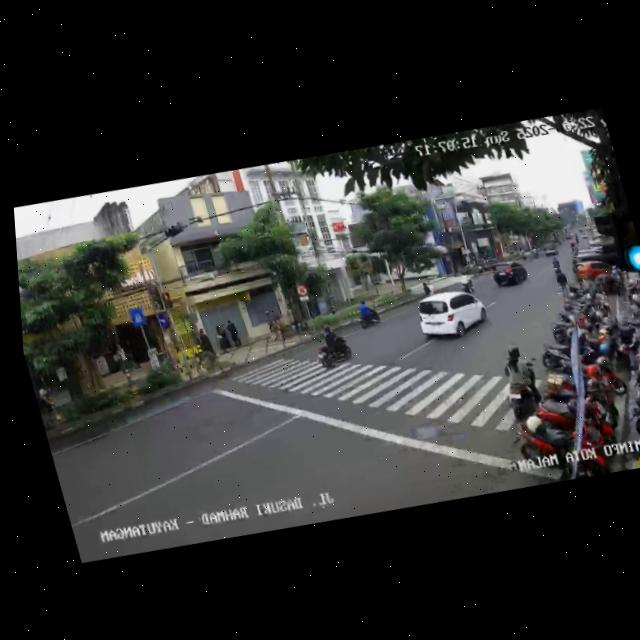car: (410, 280, 496, 349), (569, 243, 627, 295), (487, 254, 531, 292)
motorcycle: (494, 346, 543, 421), (310, 320, 356, 372), (353, 295, 383, 331)
person: (552, 266, 574, 302)
